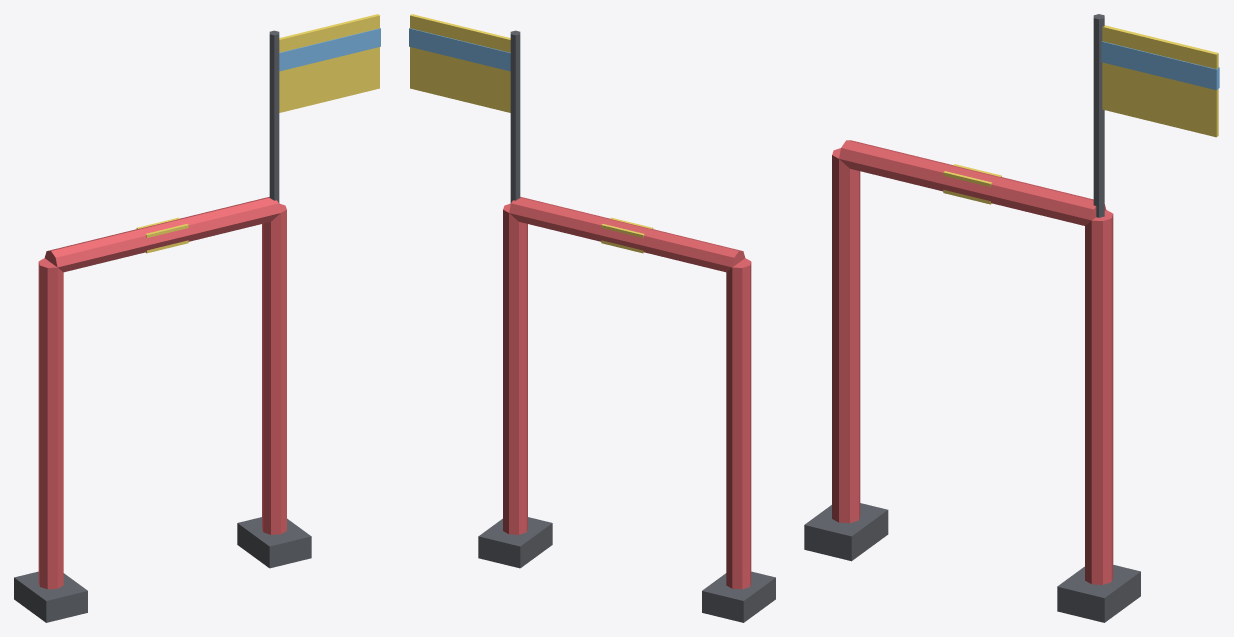
The model's file is lawn-mowing-simulator-kit-roll-bar-with-flag-2171345f__27360.glb.
3 views of the same model, side by side, from view 1: azimuth 30°, elevation 25°; view 2: azimuth 150°, elevation 25°; view 3: azimuth 330°, elevation 25° (orthographic). The views are drawn at different scales.
Visible parts, largest first — view 1: roll-bar-with-flag; view 2: roll-bar-with-flag; view 3: roll-bar-with-flag.
Boxes of the visible parts, left/top/right/bottom form: roll-bar-with-flag: left=14, top=14, right=380, bottom=622; roll-bar-with-flag: left=409, top=14, right=775, bottom=622; roll-bar-with-flag: left=804, top=14, right=1219, bottom=622.
Size of the model in its own units: 1 by 1.42 by 0.16.
